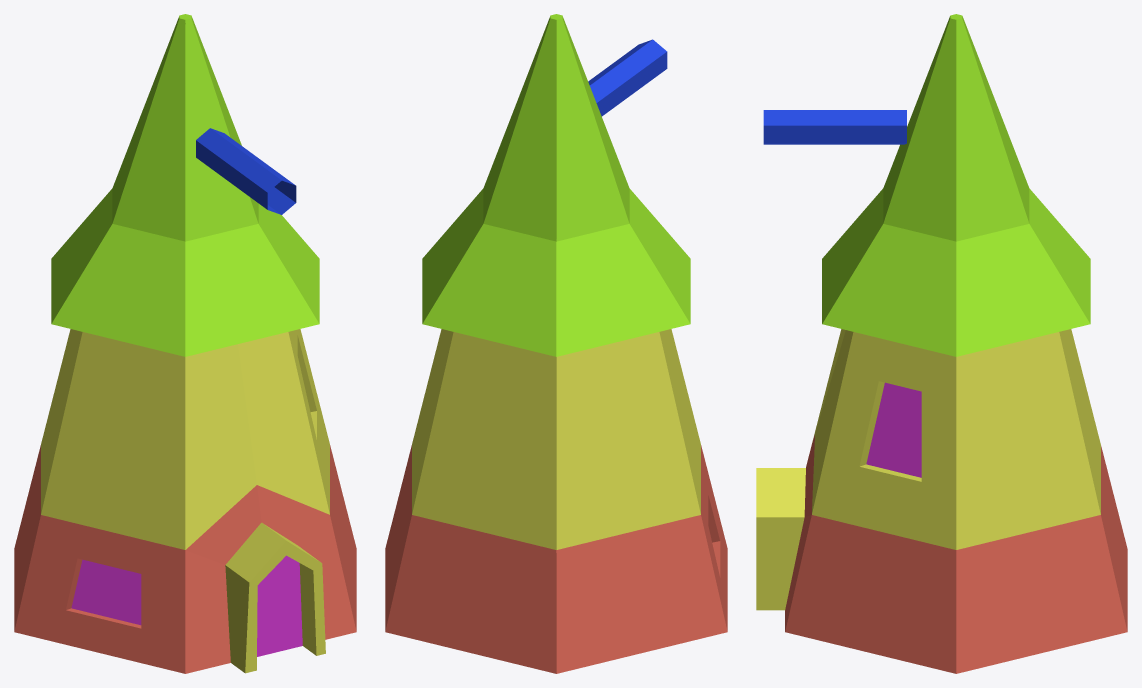
File: molino.fbx
3 renders of one model, left to right at view 1: azimuth 30°, elevation 25°; view 2: azimuth 150°, elevation 25°; view 3: azimuth 270°, elevation 25°, orthographic.
Parts seen in each view (by area): view 1: Molino; view 2: Molino; view 3: Molino.
Boxes of the visible parts, <box> form: Molino: <box>14,14,356,673</box>; Molino: <box>385,14,727,673</box>; Molino: <box>756,14,1127,673</box>.
Size of the model in its own units: 391 by 626 by 367.
